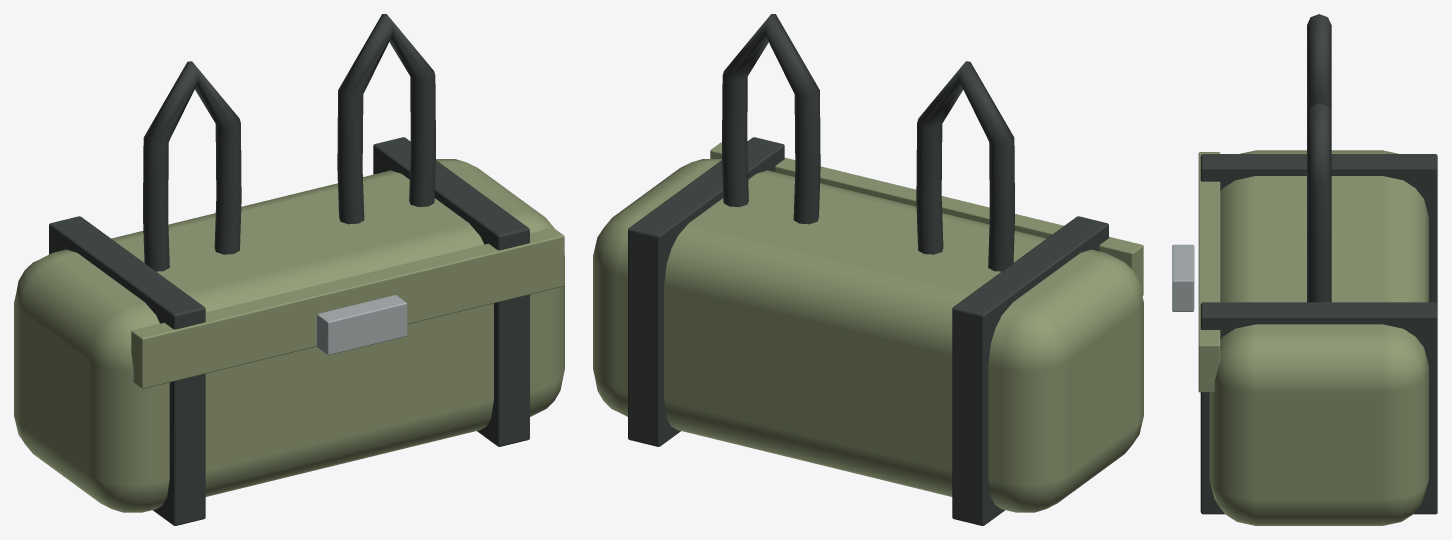
Rendered from backpacks-and-expedition-storage-duffel-bag-ff023cb1__21079.glb.
3 views of the same model, side by side, from view 1: azimuth 30°, elevation 25°; view 2: azimuth 150°, elevation 25°; view 3: azimuth 270°, elevation 25° (orthographic). The views are drawn at different scales.
Parts seen in each view (by area): view 1: duffel-bag, flap/canvas; view 2: duffel-bag, flap/canvas; view 3: duffel-bag, flap/canvas.
Part boxes in pixels (x1,y1,x2,y2): duffel-bag: [14, 14, 564, 525]; flap/canvas: [131, 228, 564, 388]; duffel-bag: [593, 14, 1143, 525]; flap/canvas: [710, 142, 1143, 295]; duffel-bag: [1172, 14, 1437, 525]; flap/canvas: [1198, 152, 1220, 392].
Bounding box in the file's own units: 0.58 × 0.4715 × 0.3025.
